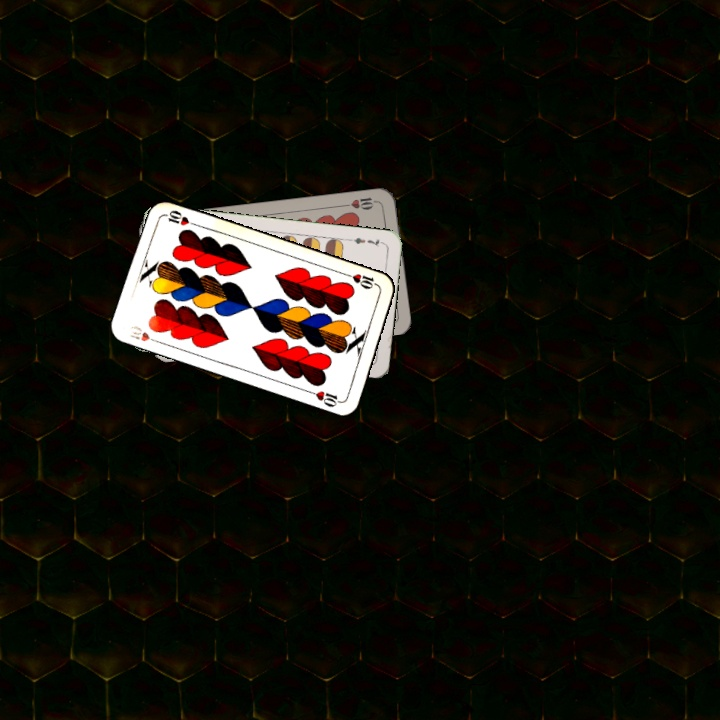E7: (345, 233, 386, 249)
H10: (125, 321, 163, 346), (342, 270, 381, 292), (340, 193, 381, 212)
